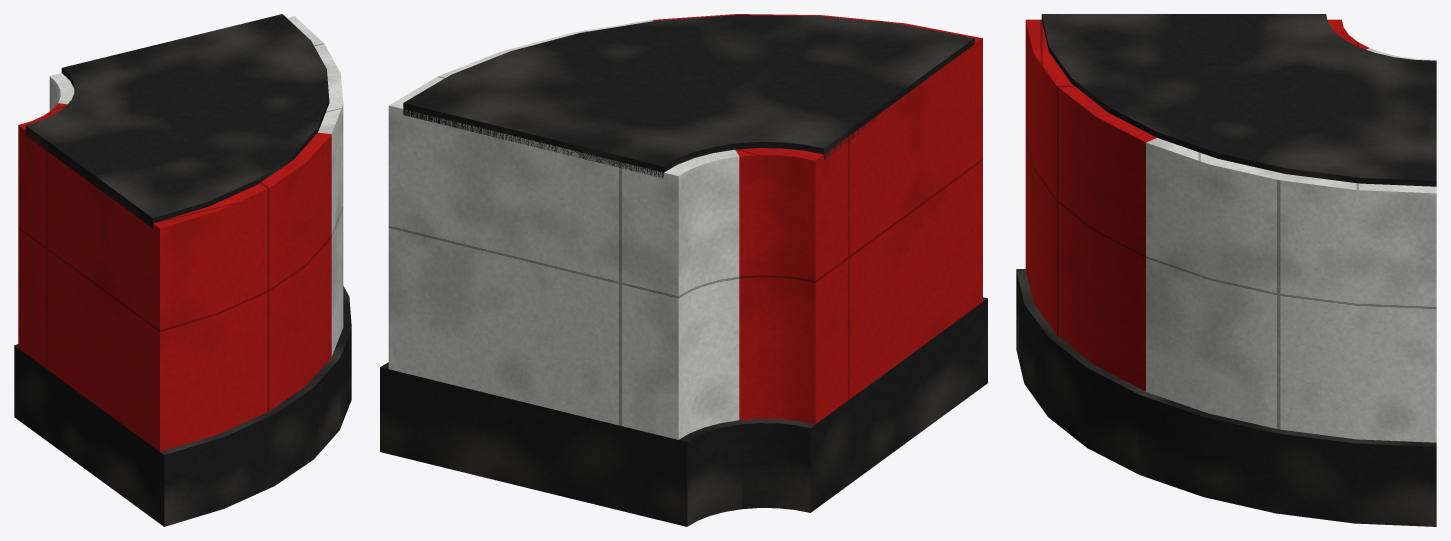
File: tecpro_corner.glb
3 renders of one model, left to right at view 1: azimuth 30°, elevation 25°; view 2: azimuth 150°, elevation 25°; view 3: azimuth 270°, elevation 25°, orthographic. The views are drawn at different scales.
Parts seen in each view (by area): view 1: tecpro_corner; view 2: tecpro_corner; view 3: tecpro_corner.
Part boxes in pixels (box(x1,y1,x2,y2)): tecpro_corner: box(14, 14, 351, 526); tecpro_corner: box(380, 14, 987, 526); tecpro_corner: box(1016, 14, 1436, 526).
Bounding box in the file's own units: 1.33 × 1.17 × 1.33.
Materials: 3 (3 with a texture image).
